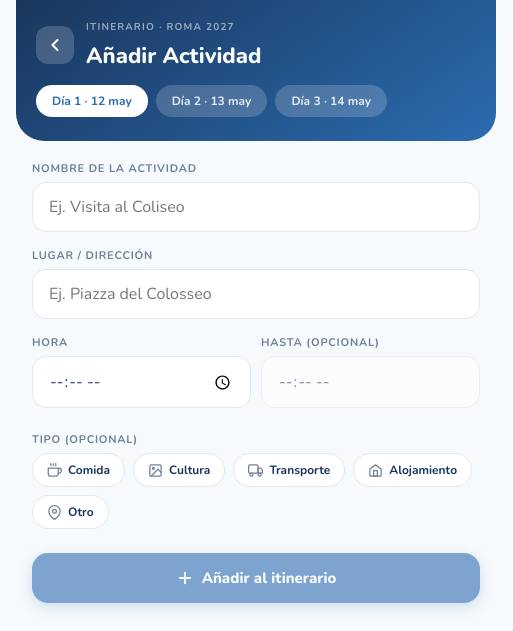
Scenario: AnadirActividad › no deja añadir sin título y sí con título
Expected: the button "Añadir al itinerario" is disabled, [32,553,480,603]
In the field labelled "Nombre de la actividad": (256, 207) [32,182,480,232], type "Coliseo"
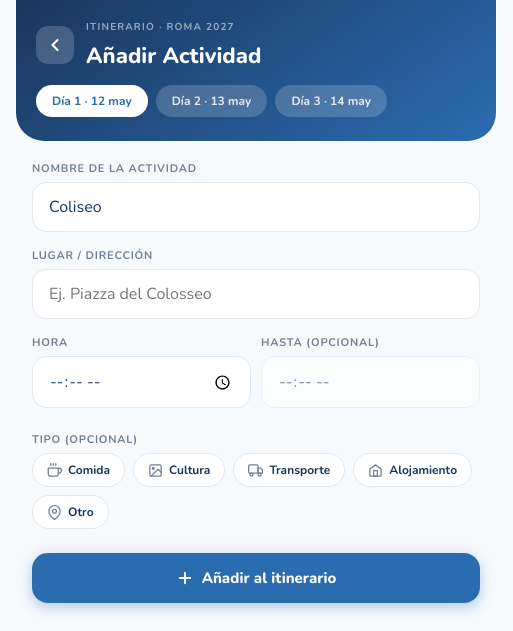
Expected: the button "Añadir al itinerario" is enabled, [32,553,480,603]
